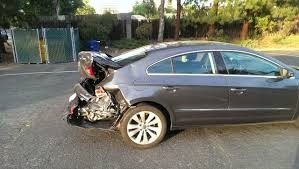Smashed: (66, 61, 127, 130)
